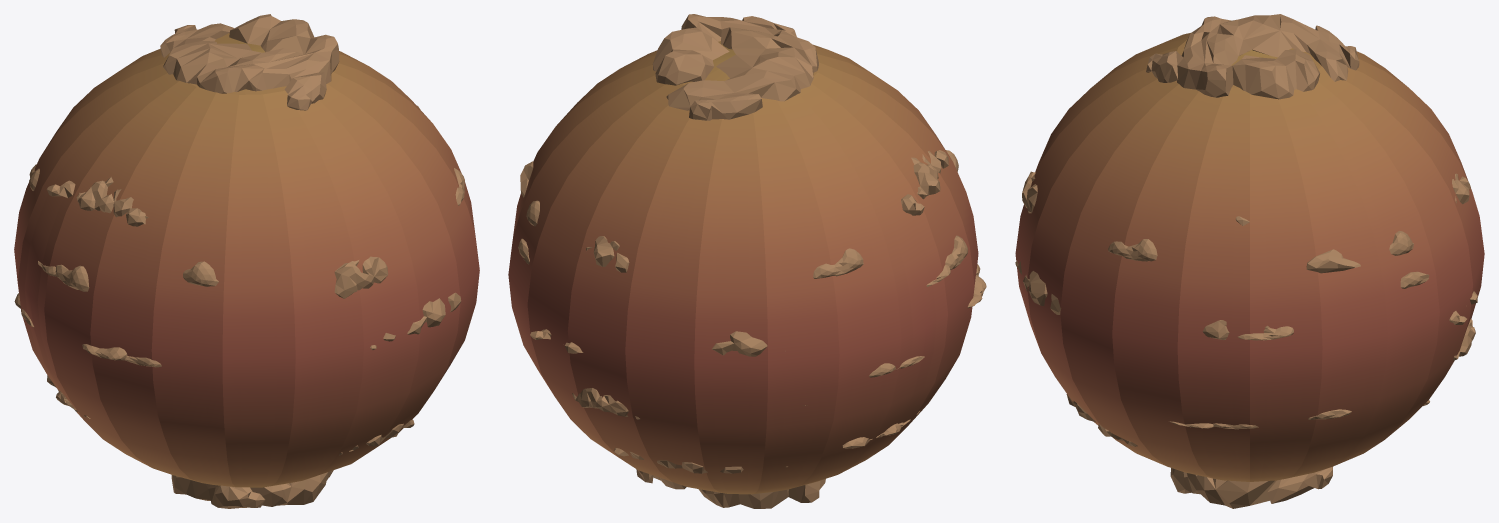
The model's file is skybox.glb.
The picture shows the model from 3 angles, left to right: view 1: azimuth 30°, elevation 25°; view 2: azimuth 150°, elevation 25°; view 3: azimuth 270°, elevation 25°; orthographic projection.
Visible parts, largest first — view 1: tatooine_sky, cloud20, cloud19, polySurface14, polySurface8, polySurface7, polySurface13, polySurface10; view 2: tatooine_sky, cloud20, cloud19, polySurface14, polySurface17, polySurface26, polySurface15, polySurface6, polySurface25; view 3: tatooine_sky, cloud20, cloud19, polySurface20, polySurface9, polySurface7.
Part boxes in pixels (left/top/right/bottom): tatooine_sky: left=14, top=33, right=479, bottom=487; cloud20: left=160, top=14, right=339, bottom=110; cloud19: left=171, top=470, right=333, bottom=508; polySurface14: left=47, top=177, right=148, bottom=226; polySurface8: left=334, top=256, right=388, bottom=298; polySurface7: left=370, top=292, right=461, bottom=349; polySurface13: left=55, top=264, right=89, bottom=291; polySurface10: left=183, top=261, right=218, bottom=286; tatooine_sky: left=508, top=41, right=978, bottom=494; cloud20: left=652, top=14, right=818, bottom=120; cloud19: left=636, top=469, right=825, bottom=508; polySurface14: left=901, top=150, right=948, bottom=215; polySurface17: left=712, top=331, right=785, bottom=356; polySurface26: left=572, top=388, right=640, bottom=419; polySurface15: left=813, top=248, right=863, bottom=278; polySurface6: left=586, top=236, right=629, bottom=272; polySurface25: left=614, top=448, right=787, bottom=473; tatooine_sky: left=1015, top=33, right=1484, bottom=481; cloud20: left=1146, top=14, right=1359, bottom=99; cloud19: left=1170, top=466, right=1332, bottom=508; polySurface20: left=1306, top=249, right=1360, bottom=273; polySurface9: left=1108, top=239, right=1157, bottom=261; polySurface7: left=1015, top=261, right=1060, bottom=314.
Bounding box in the file's own units: 546 × 566 × 542.
